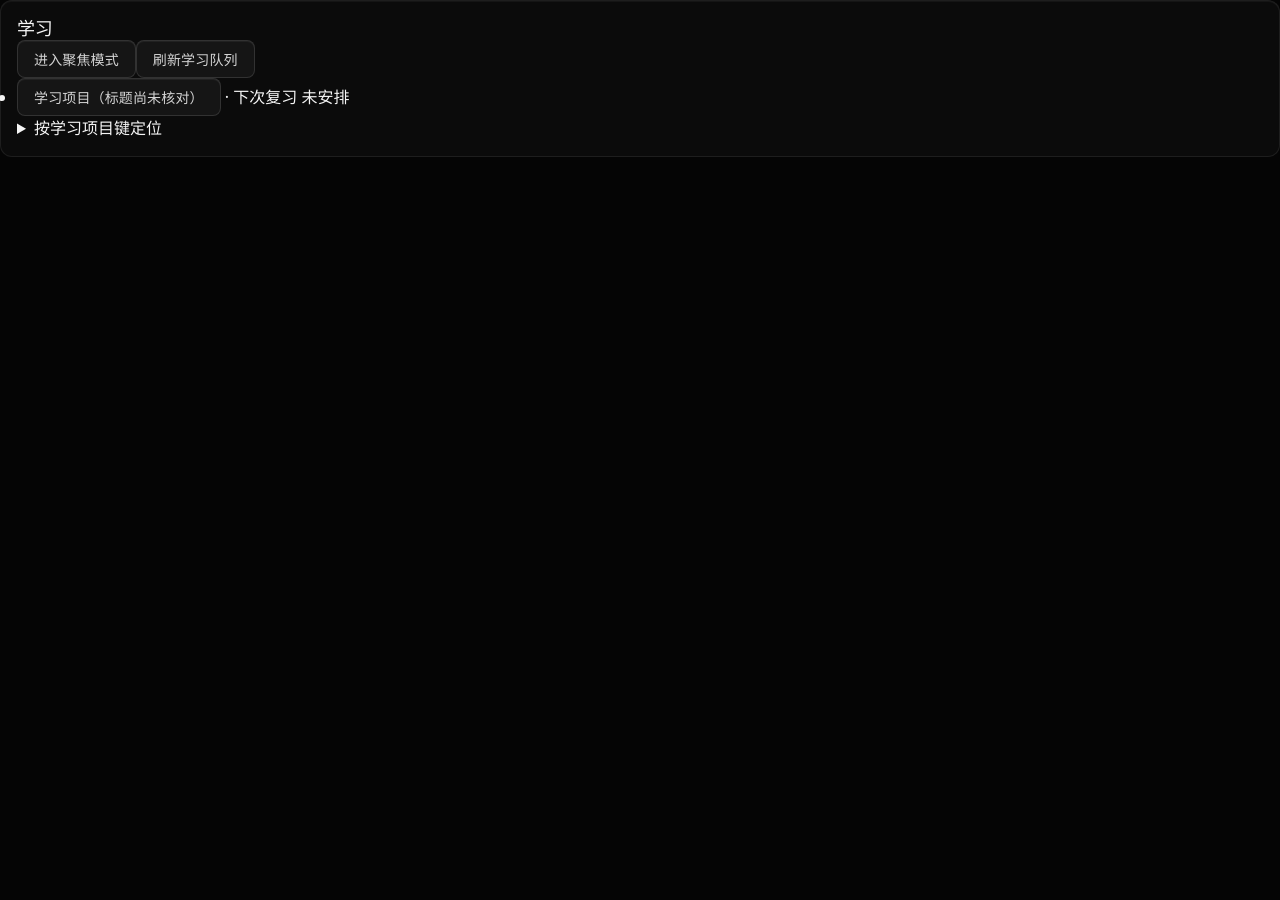
finite knowledge and learning commands › reads the updated state after a confirmed review while the submission is still busy
Click the button "学习项目（标题尚未核对）" at x=119, y=96, box [17, 78, 221, 116]
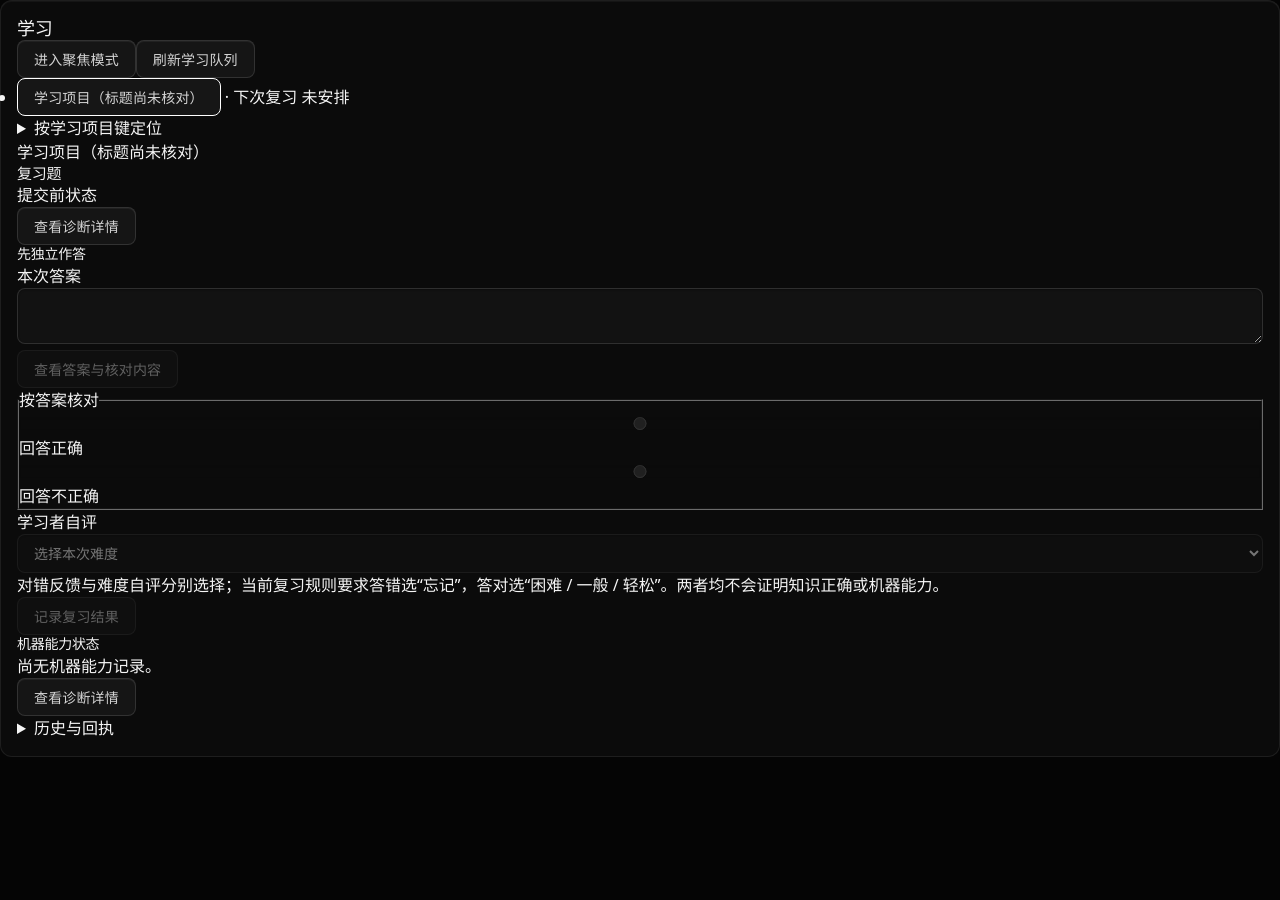
Type "answer" into the text box labelled "本次答案" at x=640, y=316, box [17, 288, 1263, 344]
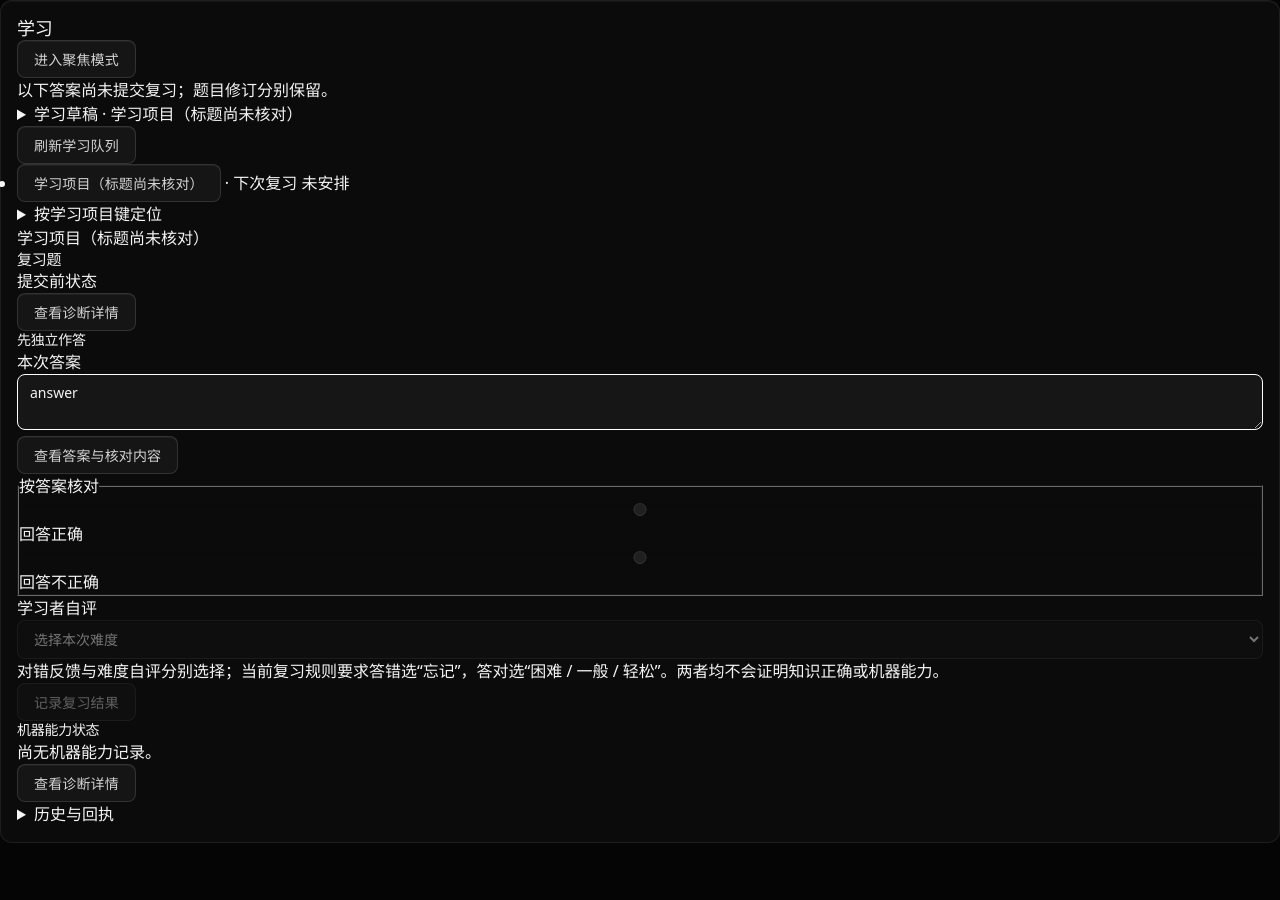
Click the button "查看答案与核对内容" at x=98, y=455, box [17, 436, 178, 474]
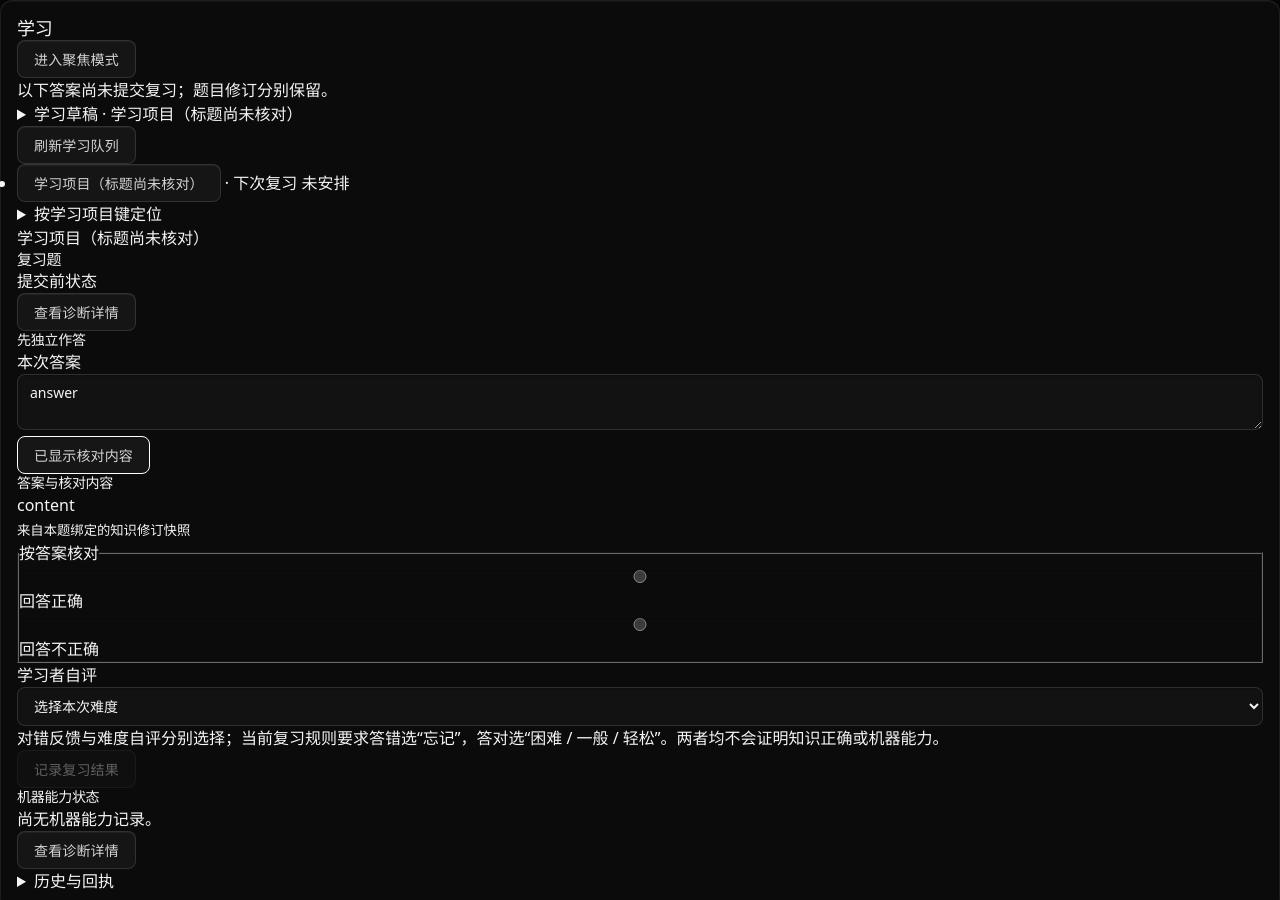
Click the radio button labelled "回答正确" at x=640, y=576, box [19, 570, 1261, 583]
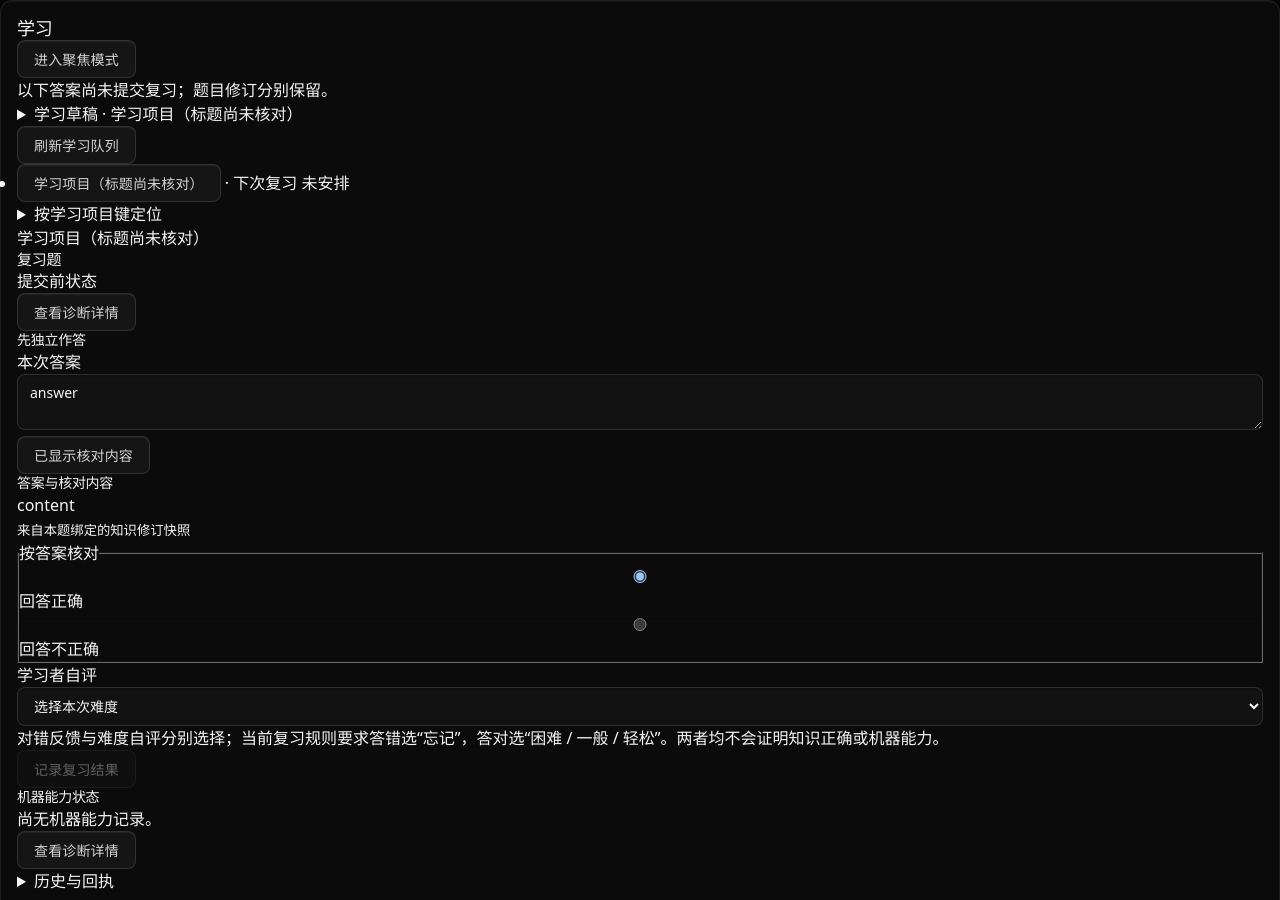
Select "一般" in the dropdown labelled "学习者自评" at x=640, y=706, box [17, 687, 1263, 726]
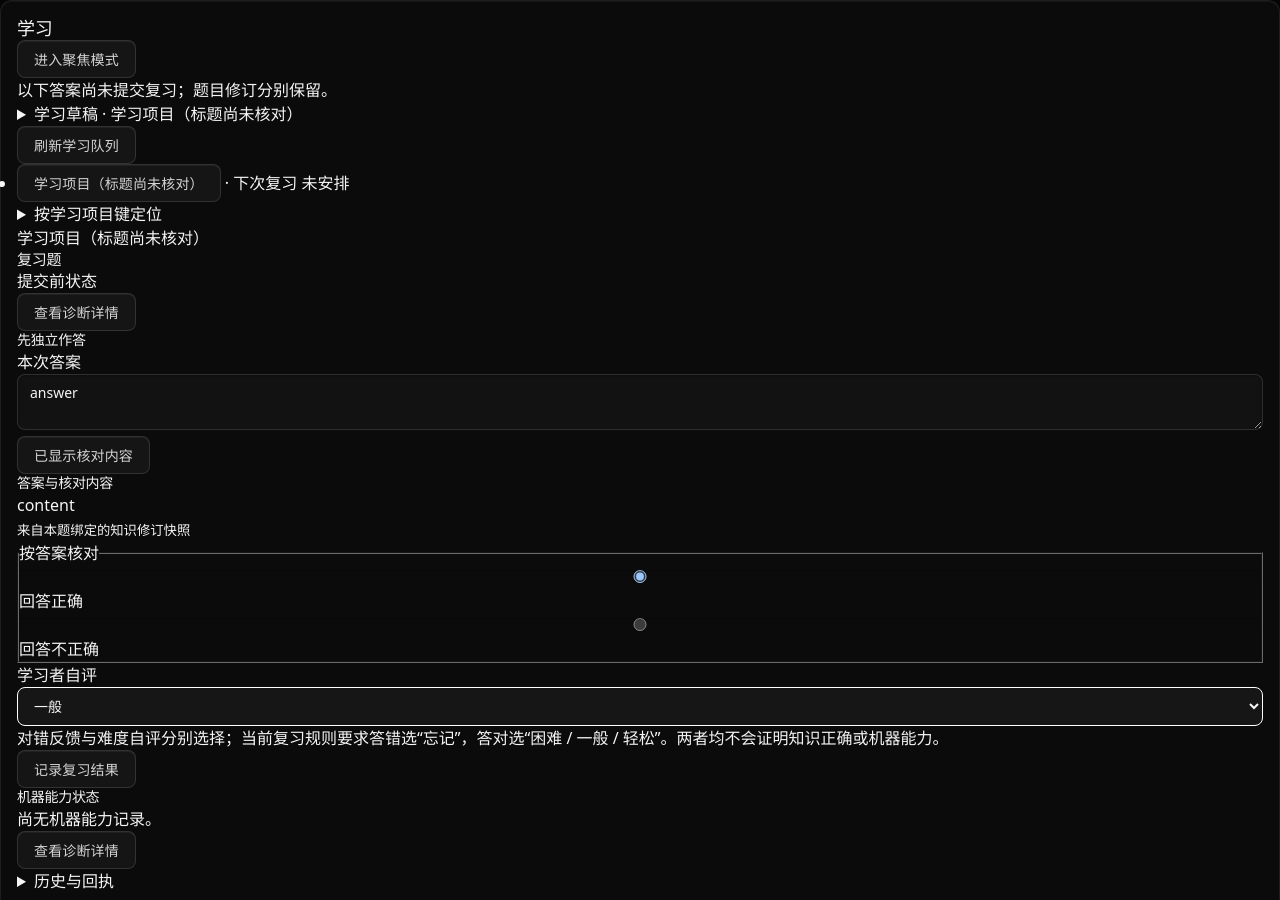
Click the button "记录复习结果" at x=76, y=769, box [17, 750, 136, 788]
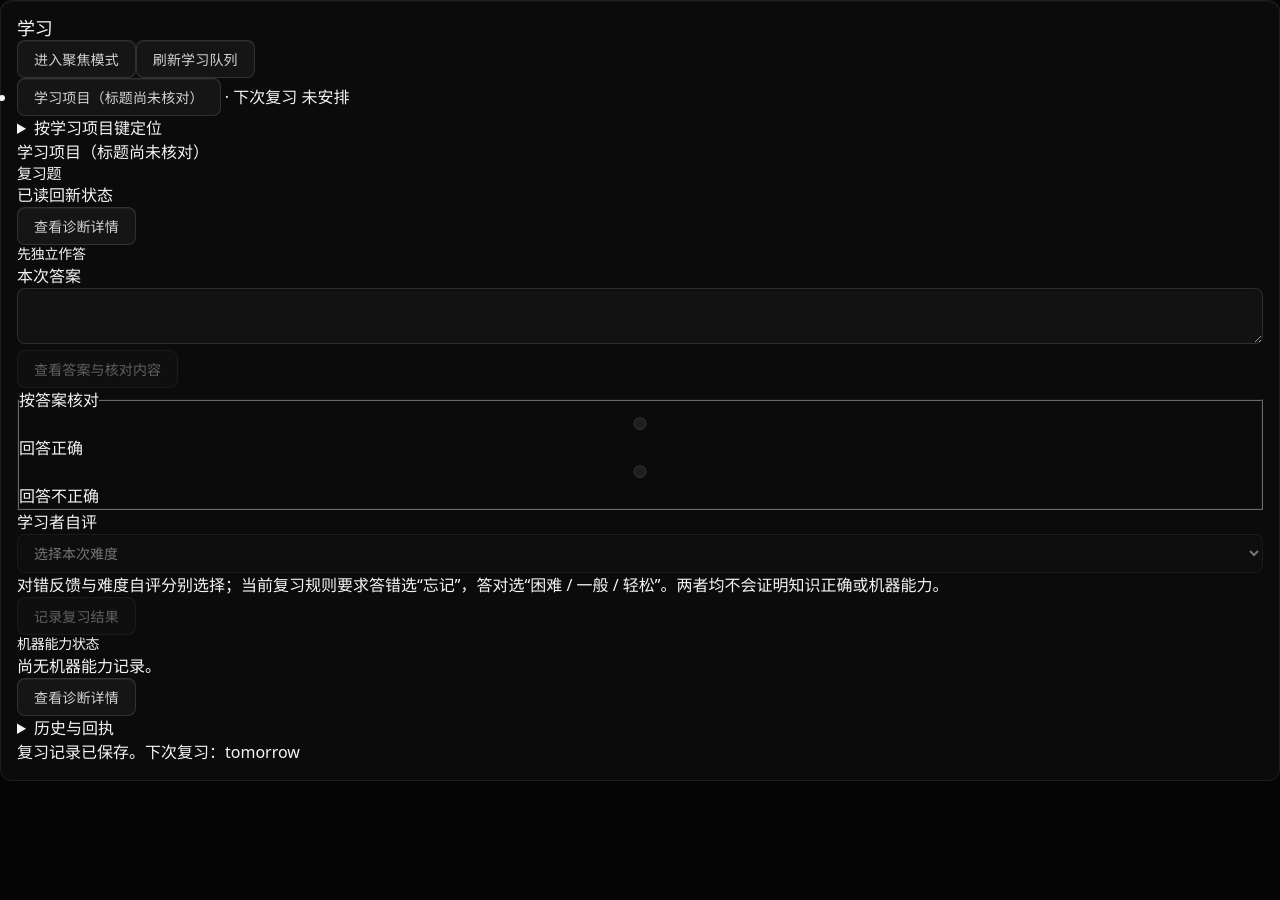
Expected: the text box labelled "本次答案" is enabled, [17, 288, 1263, 344]
Expected: the text "已读回新状态" is shown, [17, 184, 113, 206]
Expected: the text box labelled "本次答案" is empty, [17, 288, 1263, 344]
